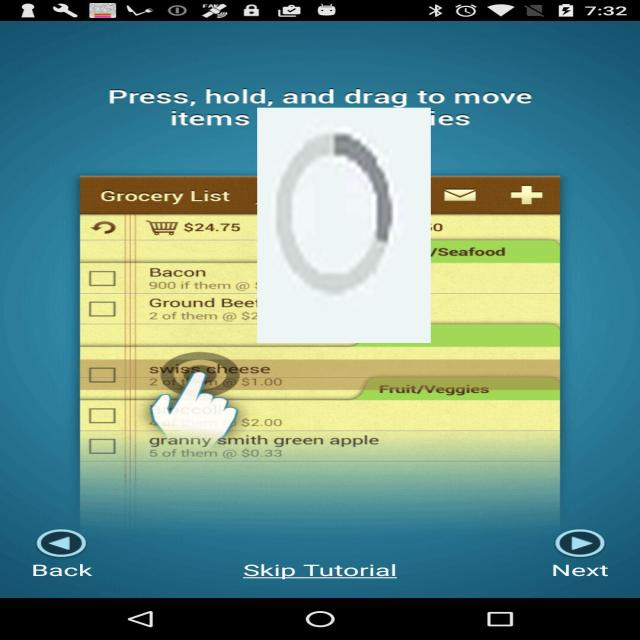misdirection: (257, 108, 431, 343)
